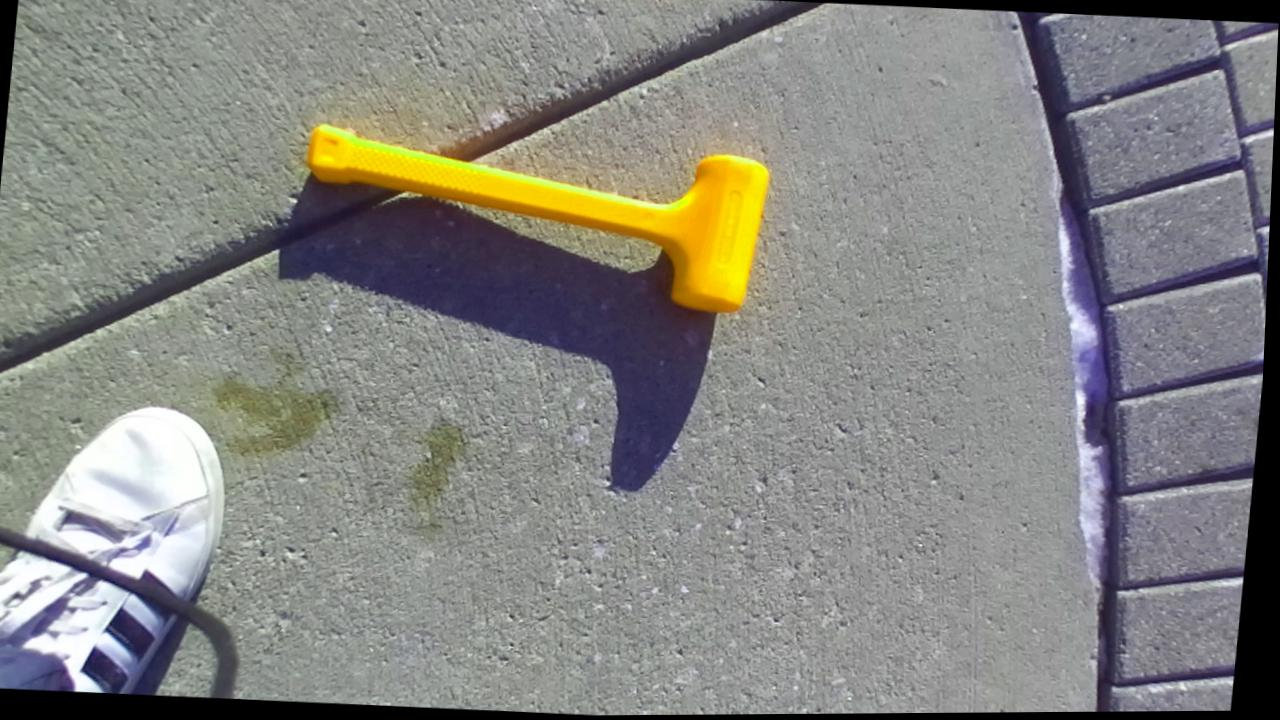mallet: (305, 125, 769, 312)
